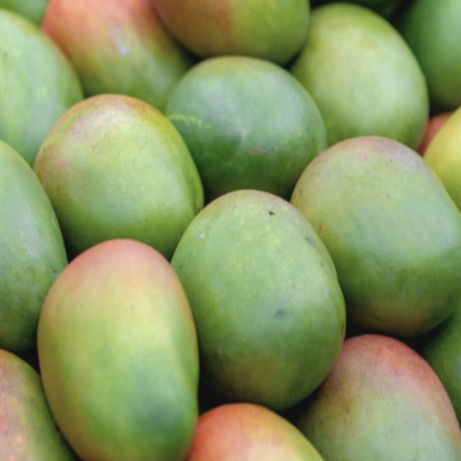mango: (154, 184, 358, 405), (23, 235, 218, 457), (288, 118, 461, 355), (155, 31, 336, 198)
